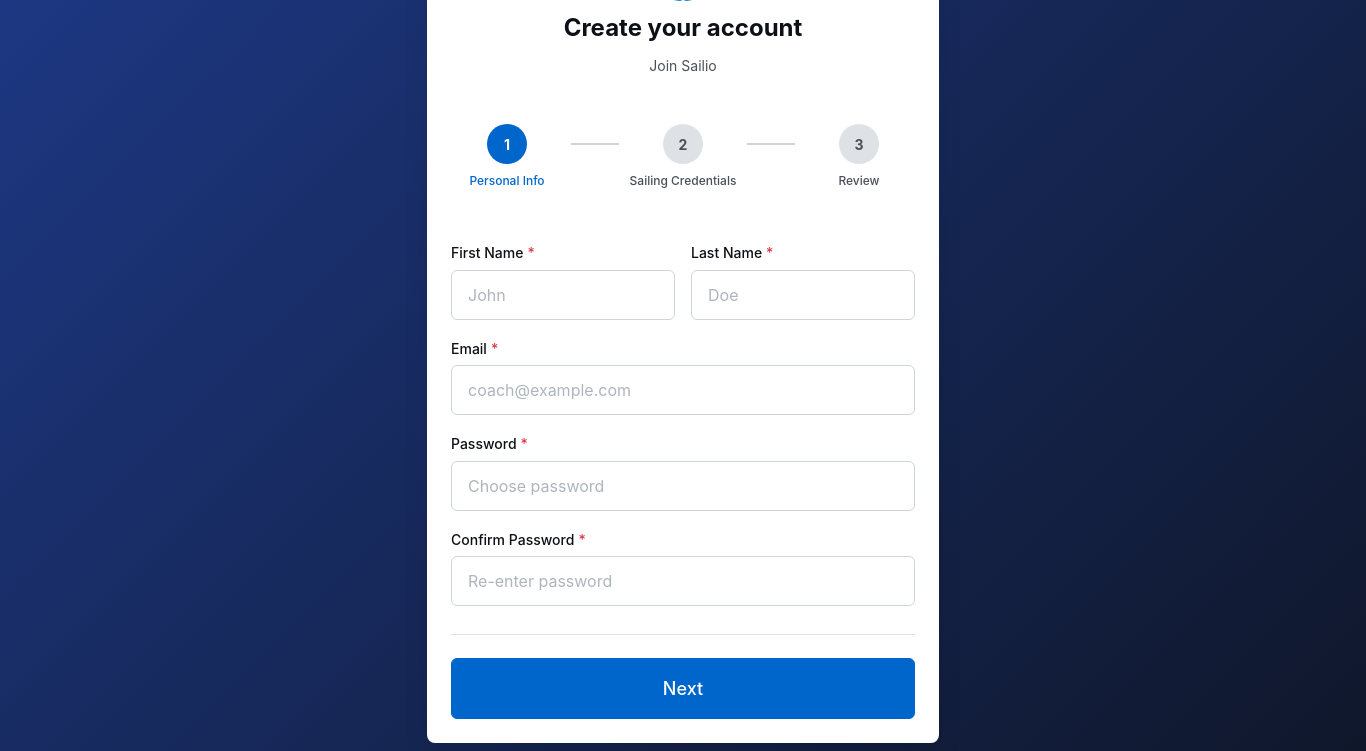
it: Register › Step 1 - Personal Info › should show validation errors when next is clicked without filling fields
(page scrolled)
Step 1. Click the button "Next" → (683, 688), box [451,658,915,719]
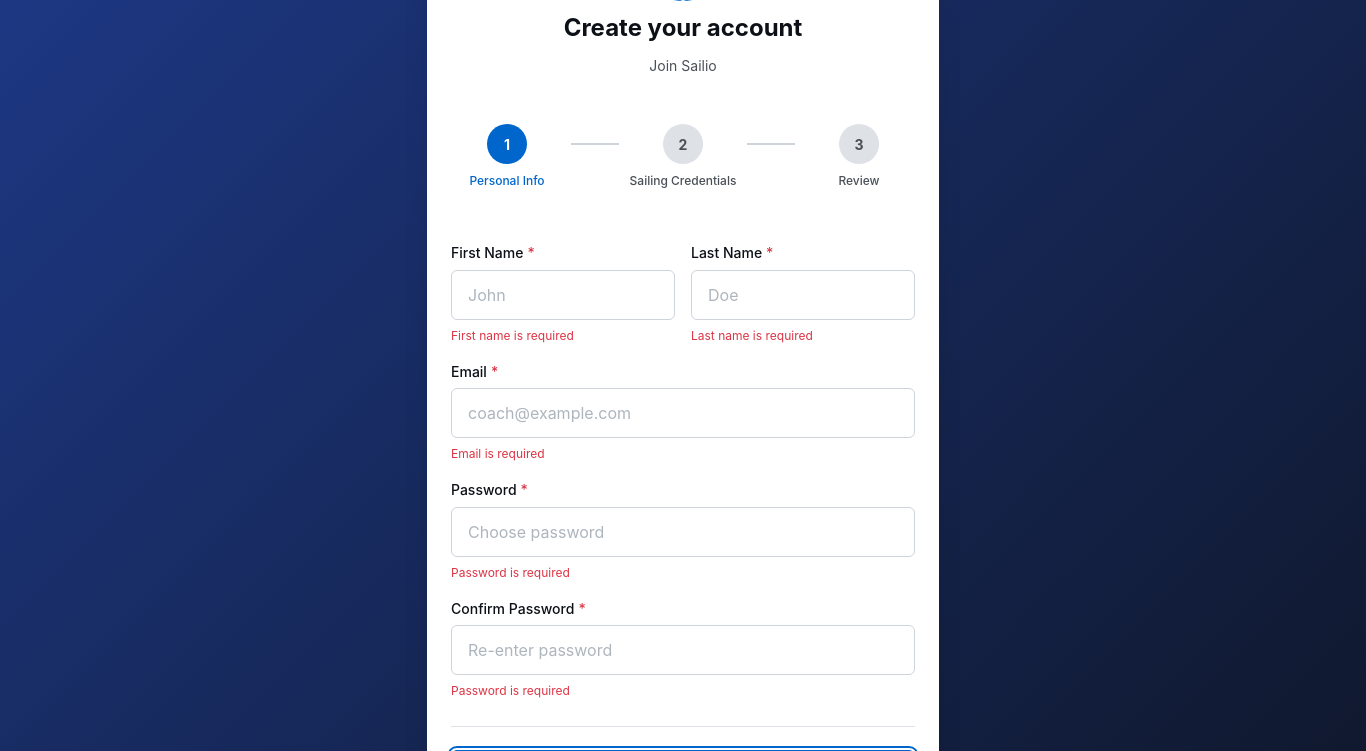
Expected: the text "First name is required" is shown, [451,328,574,342]
Expected: the text "Last name is required" is shown, [691,328,813,342]
Expected: the text "Email is required" is shown, [451,446,545,461]
